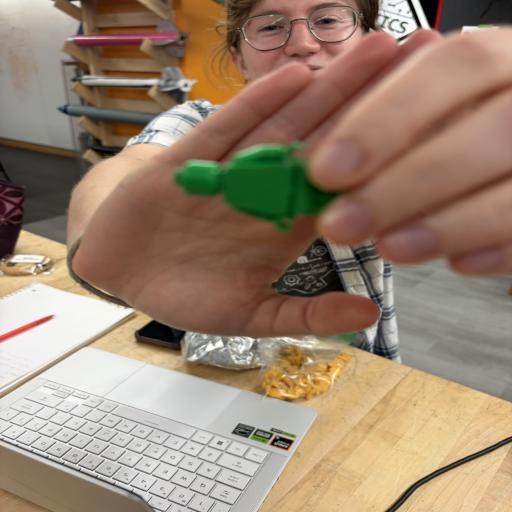Green-Lego: (174, 142, 335, 231)
